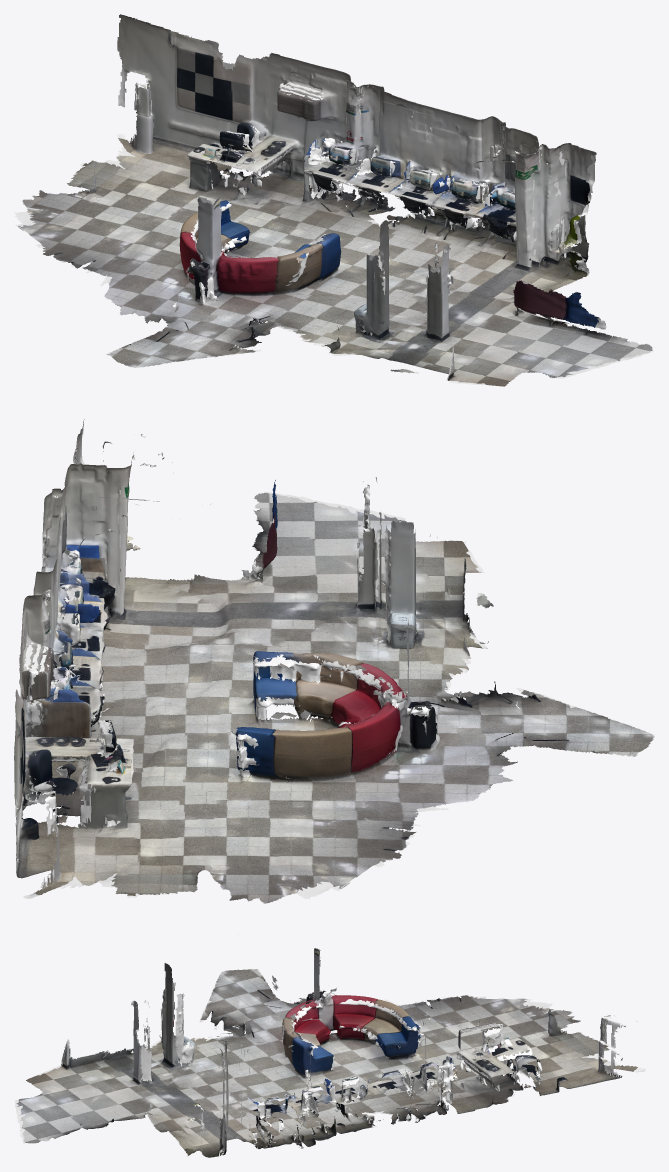
3 renders of one model, top to bottom at view 1: azimuth 30°, elevation 25°; view 2: azimuth 150°, elevation 25°; view 3: azimuth 270°, elevation 25°, orthographic. The views are drawn at different scales.
Visible parts, largest first — view 1: texture_3, texture_6, texture_2, texture_1, texture_8, texture_0, texture_7, texture_4, texture_9, object 5, texture_5; view 2: texture_3, texture_4, texture_2, texture_1, texture_6, texture_0, object 5, texture_7, texture_5, texture_9, texture_8; view 3: texture_1, texture_3, texture_6, object 5, texture_4, texture_0, texture_2, texture_8, texture_7, texture_9, texture_5.
Part boxes in pixels (x1,y1,x2,y2): texture_3: [18, 14, 289, 287]; texture_6: [345, 118, 652, 377]; texture_2: [106, 220, 449, 367]; texture_1: [177, 161, 485, 331]; texture_8: [290, 84, 512, 269]; texture_0: [305, 258, 599, 386]; texture_7: [104, 69, 370, 309]; texture_4: [67, 130, 361, 304]; texture_9: [207, 53, 353, 204]; object 5: [14, 42, 654, 386]; texture_5: [415, 113, 595, 277]; texture_3: [14, 684, 446, 903]; texture_4: [25, 669, 439, 895]; texture_2: [312, 512, 654, 785]; texture_1: [57, 591, 532, 791]; texture_6: [42, 434, 406, 690]; texture_0: [169, 480, 493, 669]; object 5: [15, 422, 633, 901]; texture_7: [21, 613, 491, 807]; texture_5: [41, 419, 223, 634]; texture_9: [19, 589, 133, 825]; texture_8: [29, 489, 153, 736]; texture_1: [143, 993, 466, 1138]; texture_3: [328, 995, 637, 1104]; texture_6: [16, 1000, 422, 1157]; object 5: [14, 934, 645, 1156]; texture_4: [294, 991, 609, 1119]; texture_0: [26, 995, 195, 1135]; texture_2: [129, 963, 335, 1087]; texture_8: [276, 1022, 456, 1146]; texture_7: [282, 948, 537, 1115]; texture_9: [407, 1023, 540, 1113]; texture_5: [194, 1042, 336, 1155].
Size of the model in its own units: 9.87 by 2.59 by 13.87.
11 materials, 10 textured.
